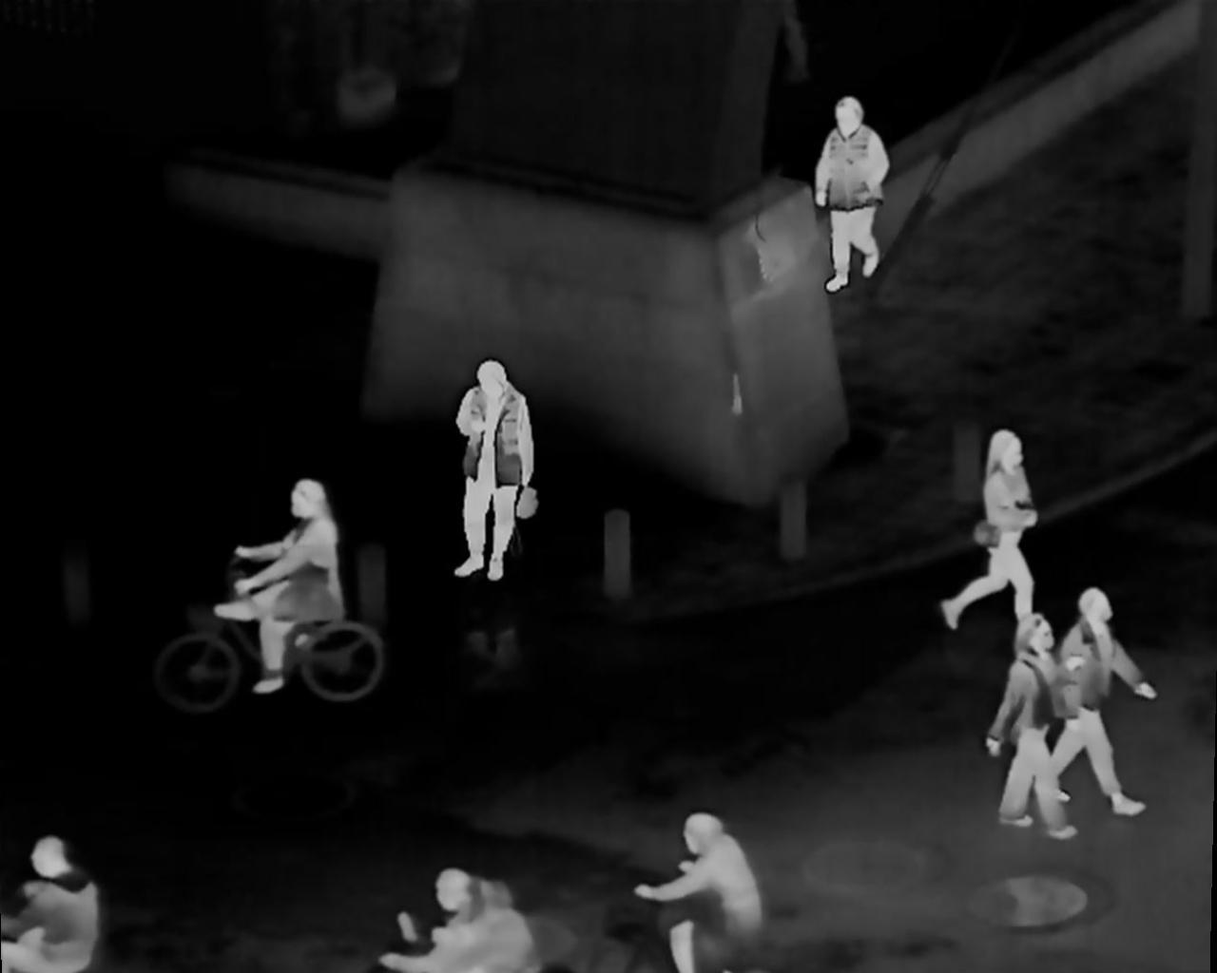person: (215, 474, 359, 697), (919, 427, 1049, 638), (1059, 582, 1156, 812), (440, 362, 537, 591), (995, 617, 1088, 836), (643, 812, 773, 958), (814, 95, 887, 279), (380, 866, 479, 973), (457, 882, 547, 973)
